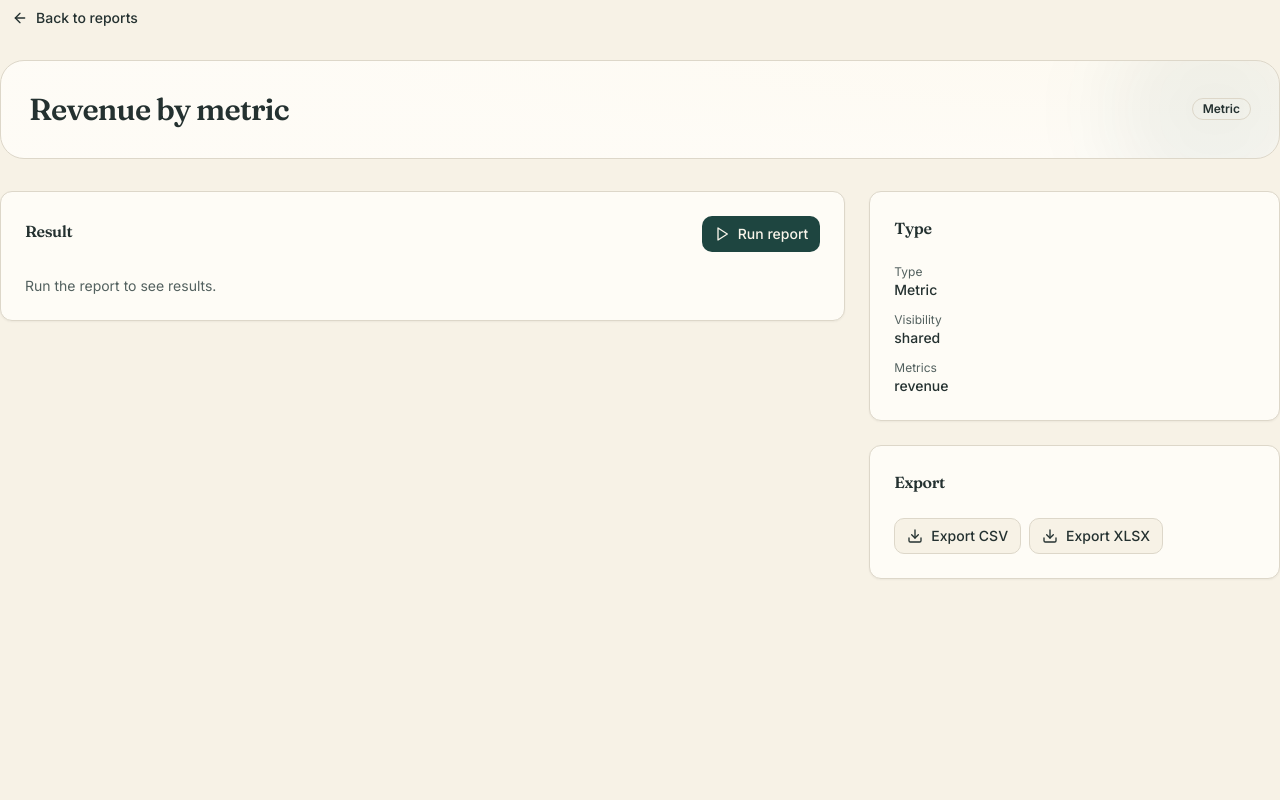
ReportDetailsPage › runs the report and renders the result rows in a table
Expected: the heading "Revenue by metric" is shown, [29,89,289,130]
Click the button "Run report": [761, 234] box [702,216,820,252]
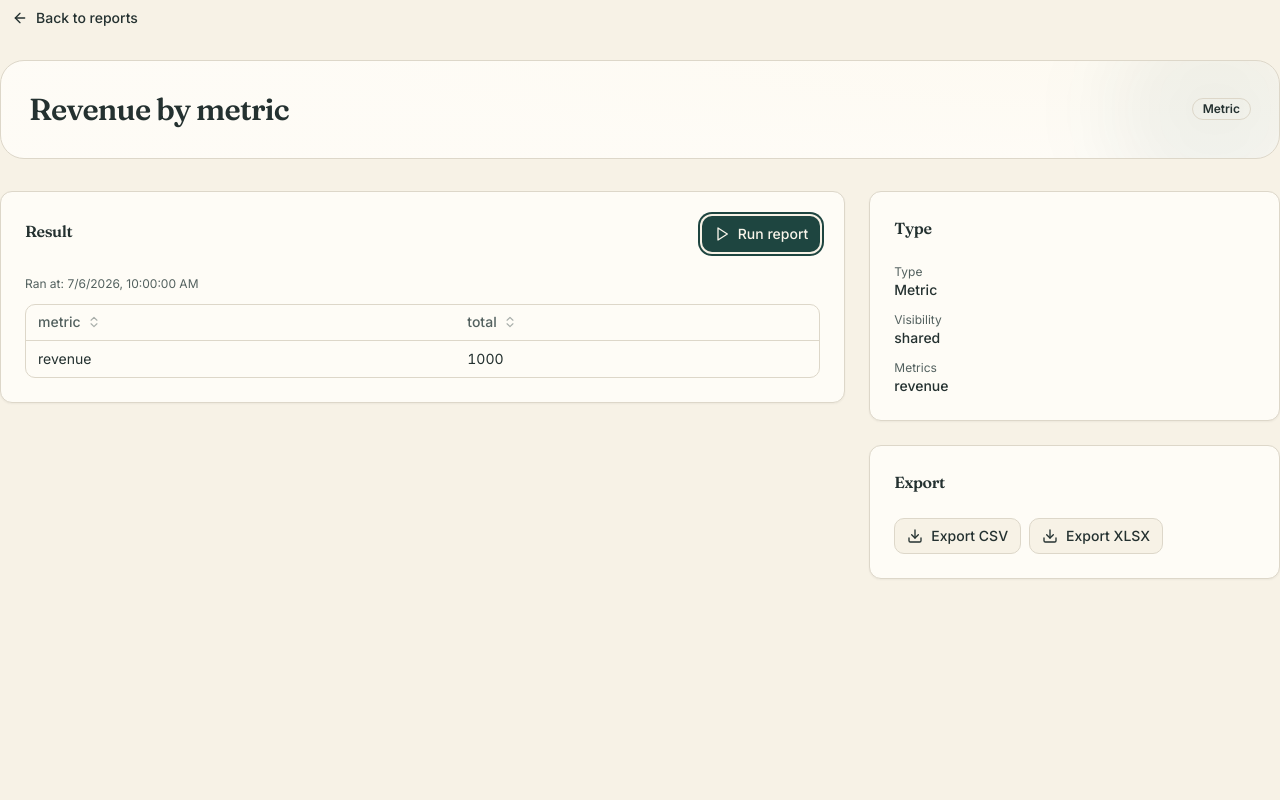
Now the button "metric" is shown, box [38,312,101,332]
Now the text "1000" is shown, box [467,350,504,367]
